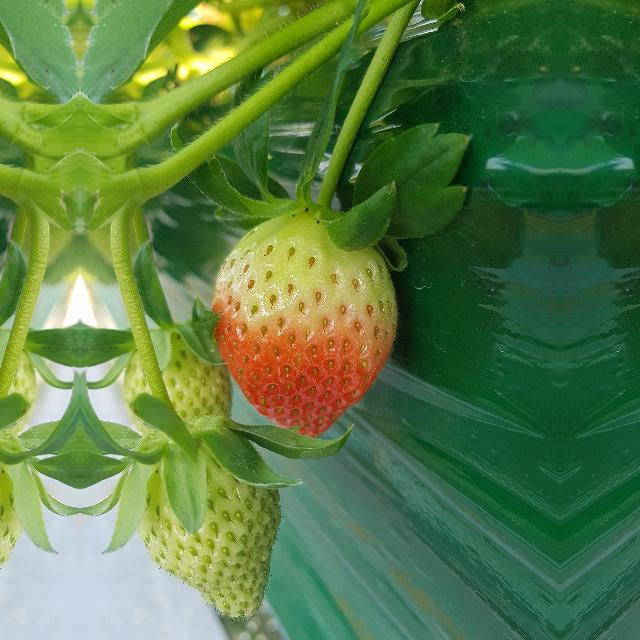Health_25: (124, 424, 276, 624), (0, 424, 36, 624)
Health_75: (210, 210, 400, 438)
